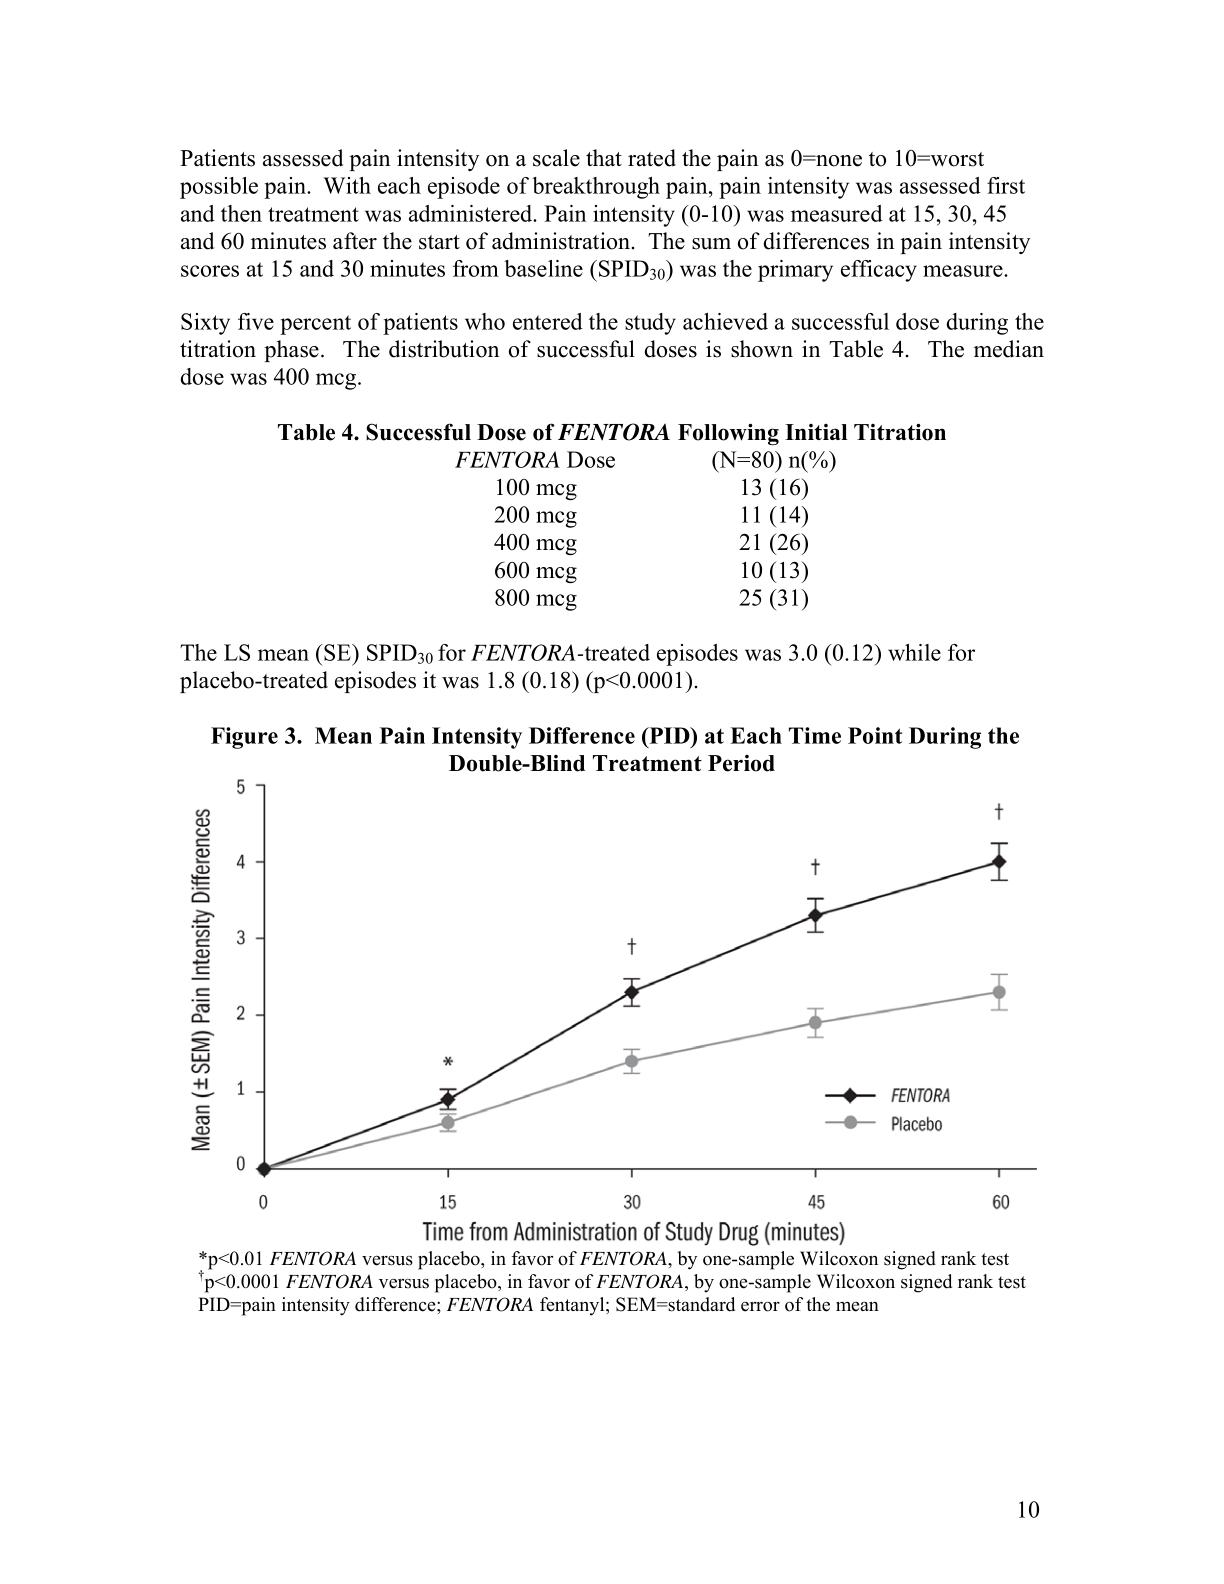nolines: (453, 449, 837, 615)
